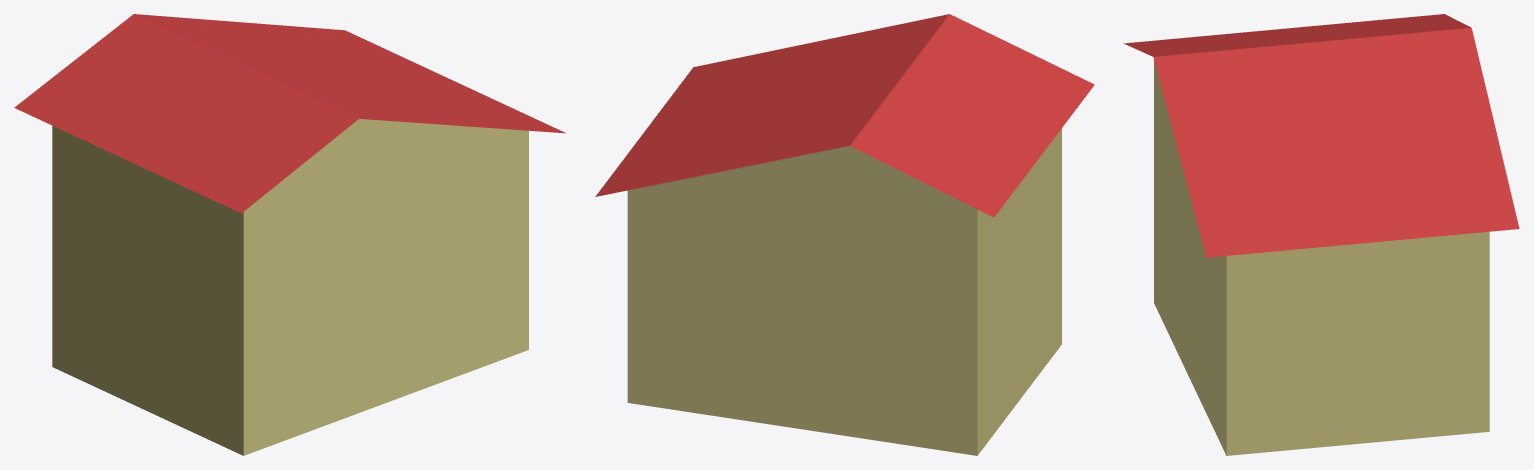
3 renders of one model, left to right at view 1: azimuth 30°, elevation 25°; view 2: azimuth 150°, elevation 25°; view 3: azimuth 270°, elevation 25°, orthographic. The views are drawn at different scales.
Size of the model in its own units: 13.94 by 11.44 by 9.58.
